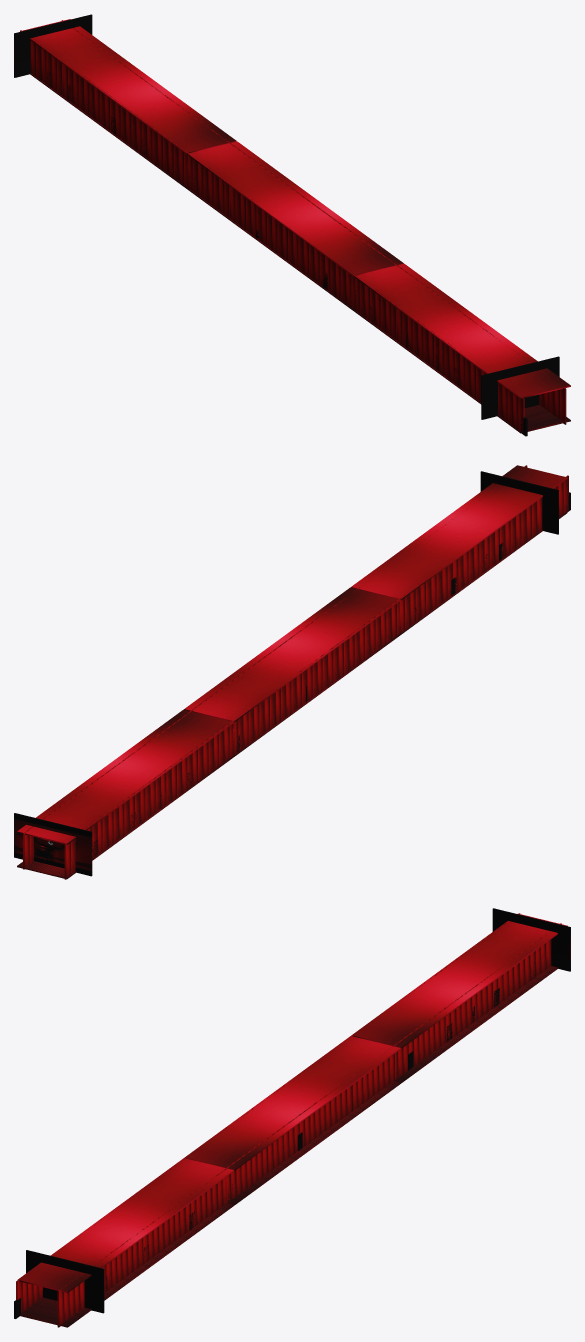
File: level.glb
3 renders of one model, top to bottom at view 1: azimuth 30°, elevation 25°; view 2: azimuth 150°, elevation 25°; view 3: azimuth 330°, elevation 25°, orthographic.
Parts seen in each view (by area): view 1: cube_82, cube_150, cube_77, cube_241, cube_11, cube_151; view 2: cube_82, cube_150, cube_77, cube_11, cube_241, cube_76; view 3: cube_82, cube_150, cube_77, cube_151, cube_241, cube_11, cube_83, cube_76.
Boxes of the visible parts, box(x1,y1,x2,y2) form: cube_82: box(187, 141, 403, 276); cube_150: box(354, 263, 570, 398); cube_77: box(20, 19, 236, 154); cube_241: box(481, 356, 559, 419); cube_11: box(14, 14, 92, 77); cube_151: box(354, 310, 570, 433); cube_82: box(184, 587, 400, 722); cube_150: box(351, 465, 567, 599); cube_77: box(17, 709, 233, 844); cube_11: box(14, 813, 92, 876); cube_241: box(480, 471, 558, 534); cube_76: box(17, 756, 233, 878); cube_82: box(184, 1036, 400, 1170); cube_150: box(18, 1158, 233, 1292); cube_77: box(351, 914, 567, 1048); cube_151: box(20, 1203, 233, 1327); cube_241: box(26, 1250, 104, 1313); cube_11: box(492, 908, 570, 971); cube_83: box(228, 1081, 400, 1205); cube_76: box(395, 966, 557, 1083).
Bounding box in the file's own units: 176 × 95.82 × 1990.
Materials: 7 (7 with a texture image).
